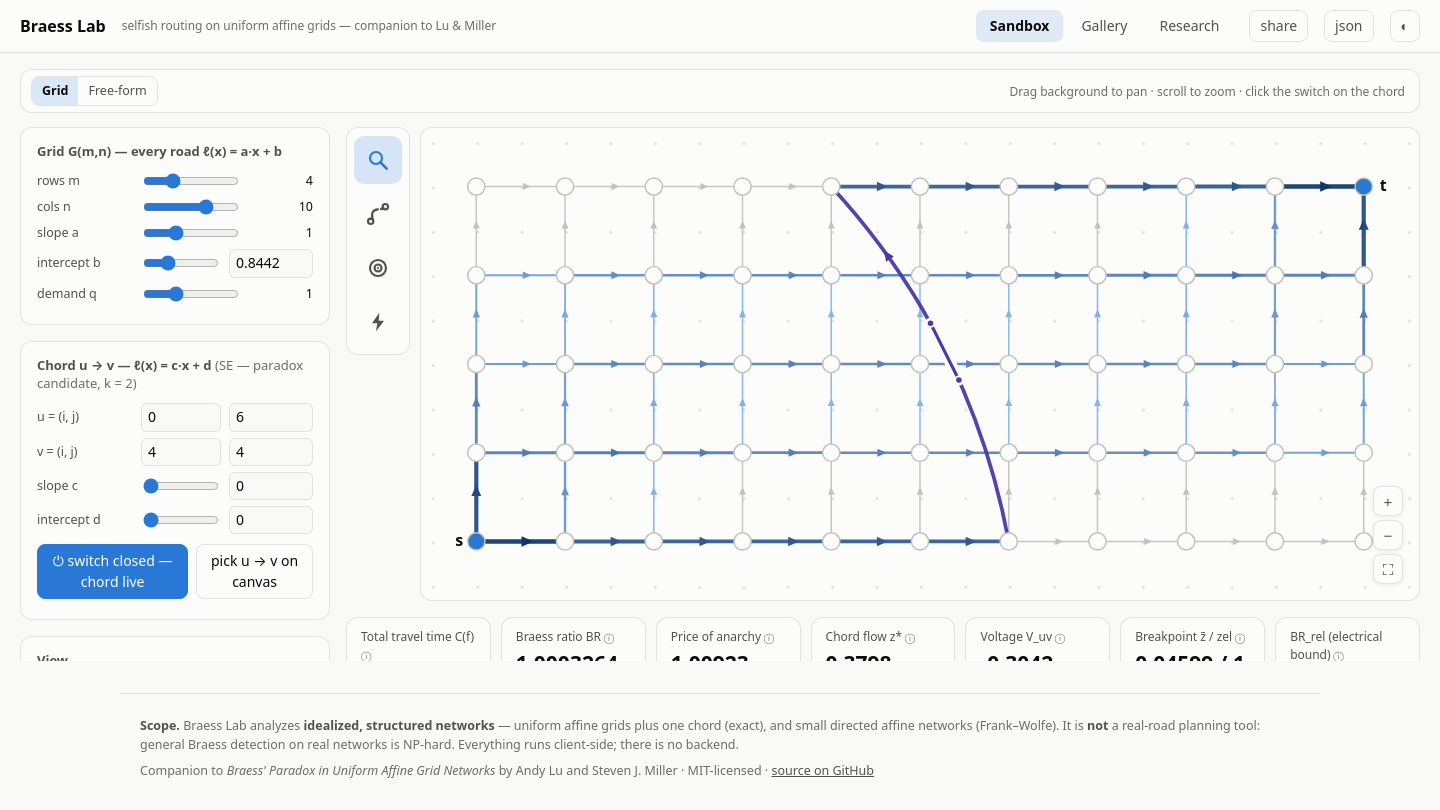
Test: gallery and research tabs render
Click the button "Gallery": (1104, 26) [1067,10,1142,42]
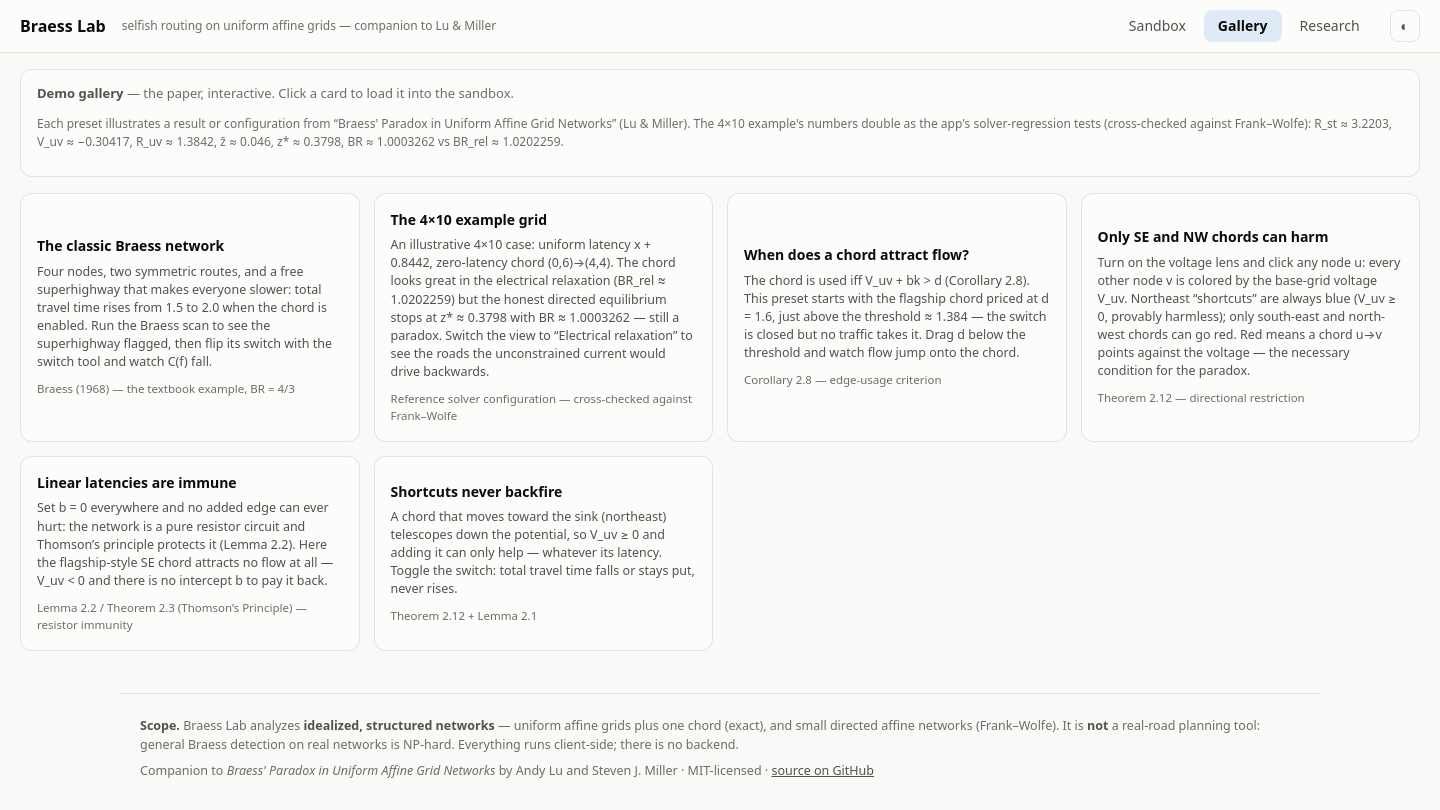
Result: the heading "The classic Braess network" is shown at [37,236,224,255]
Click the button "Research": (1330, 26) [1286,10,1374,42]
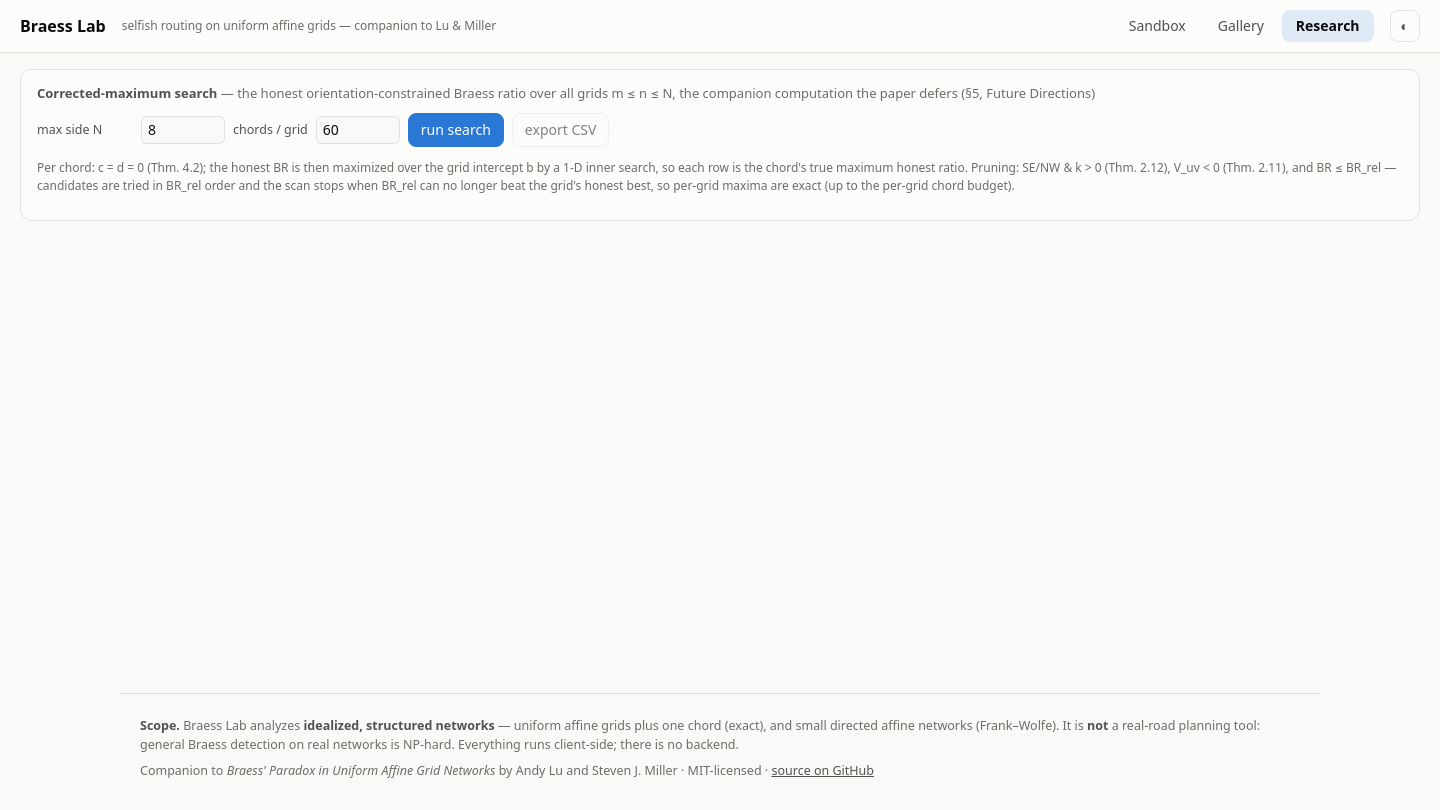
Result: the heading "Corrected-maximum search" is shown at [37,84,217,102]
